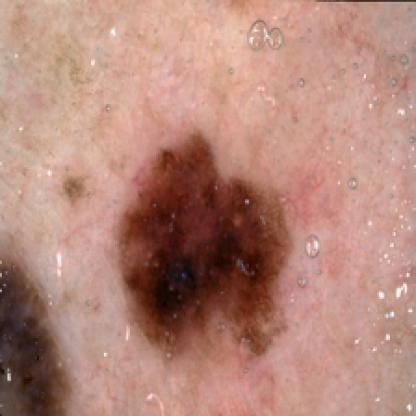malignant: (104, 140, 312, 334), (0, 256, 62, 411)
